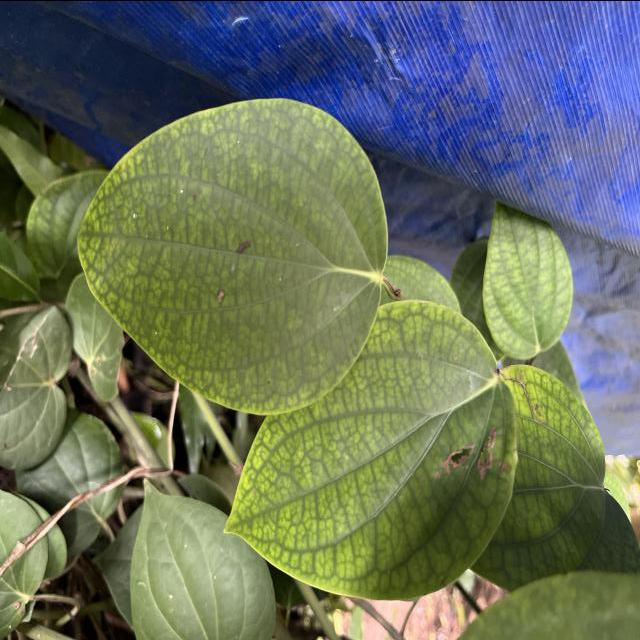Piper nigrum: (74, 93, 390, 410), (220, 297, 521, 602)
